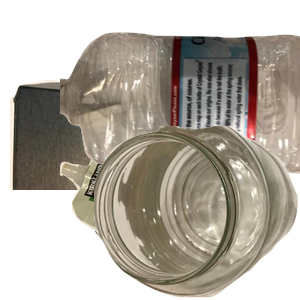cardboard: (10, 77, 245, 257)
glass: (94, 126, 300, 300)
plastic: (60, 30, 300, 196)
trash: (57, 137, 257, 300)
